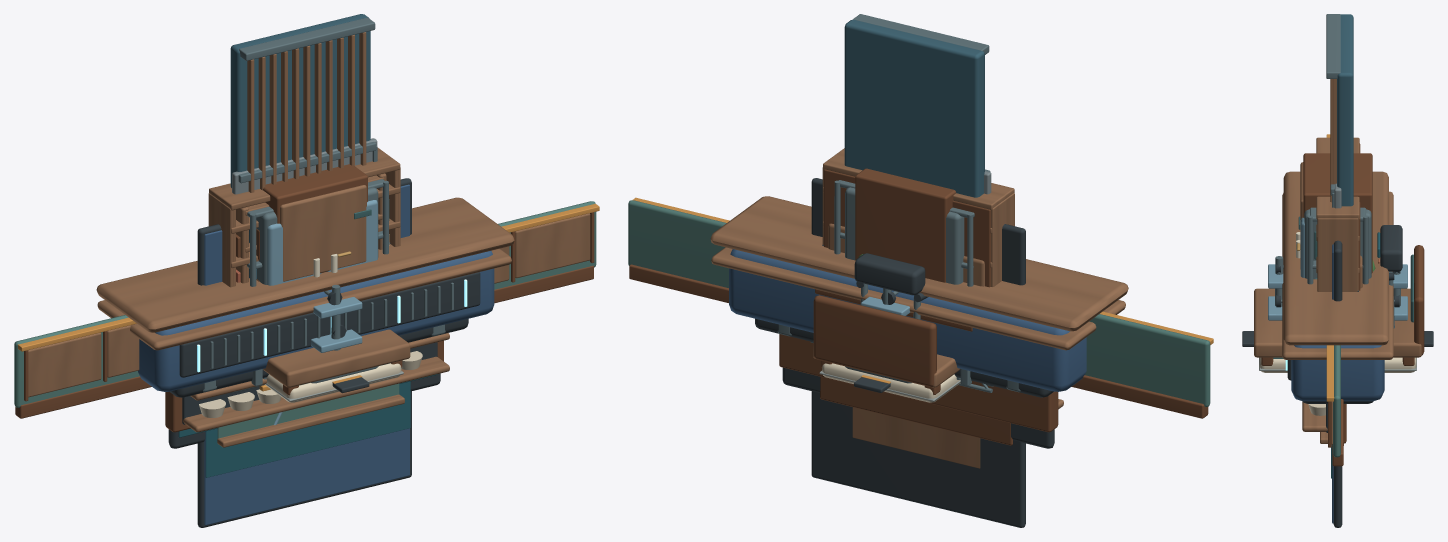
The model's file is office_furniture.glb.
3 renders of one model, left to right at view 1: azimuth 30°, elevation 25°; view 2: azimuth 150°, elevation 25°; view 3: azimuth 270°, elevation 25°, orthographic. The views are drawn at different scales.
Visible parts, largest first — view 1: BroadcastDesk, BroadcastWing, CanteenJoinery, BroadcastPanelCool, Wardrobe, PantryHatch, ConferenceTable, ScriptLibrary, BedFrame, ProjectWall, KitchenFridge, ScenicBackdropBay (+6 smaller); view 2: BroadcastDesk, BroadcastWing, CanteenJoinery, BroadcastPanelCool, BedFrame, Wardrobe, ConferenceTable, ScriptLibrary, PantryHatch, ProjectWall, FittingMirror, TreadmillConsole (+7 smaller); view 3: BroadcastDesk, BroadcastWing, BedFrame, ScriptLibrary, Wardrobe, ConferenceTable, CanteenJoinery, GymWeights, BroadcastPanelCool, TreadmillConsole, SortingCage, KitchenFridge (+4 smaller).
Part boxes in pixels (x1,y1,x2,y2): BroadcastDesk: (96, 197, 514, 397); BroadcastWing: (230, 14, 375, 192); CanteenJoinery: (14, 201, 599, 418); BroadcastPanelCool: (197, 178, 411, 527); Wardrobe: (263, 164, 367, 281); PantryHatch: (165, 333, 449, 432); ConferenceTable: (97, 248, 511, 392); ScriptLibrary: (208, 148, 400, 287); BedFrame: (263, 329, 410, 395); ProjectWall: (217, 383, 404, 447); KitchenFridge: (256, 187, 378, 285); ScenicBackdropBay: (232, 138, 377, 194); BroadcastDesk: (710, 196, 1128, 397); BroadcastWing: (844, 14, 989, 197); CanteenJoinery: (628, 197, 1213, 418); BroadcastPanelCool: (811, 178, 1025, 527); BedFrame: (813, 295, 959, 394); Wardrobe: (855, 168, 956, 282); ConferenceTable: (711, 247, 1125, 392); ScriptLibrary: (822, 148, 1014, 287); PantryHatch: (779, 334, 1063, 432); ProjectWall: (820, 377, 1012, 445); FittingMirror: (852, 407, 980, 468); TreadmillConsole: (854, 253, 928, 319); BroadcastDesk: (1283, 171, 1388, 403); BroadcastWing: (1326, 14, 1353, 206); BedFrame: (1254, 245, 1424, 365); ScriptLibrary: (1316, 137, 1360, 291); Wardrobe: (1296, 153, 1372, 273); ConferenceTable: (1282, 191, 1393, 359); CanteenJoinery: (1326, 134, 1343, 466); GymWeights: (1268, 256, 1407, 320); BroadcastPanelCool: (1331, 240, 1342, 527); TreadmillConsole: (1377, 225, 1402, 328); SortingCage: (1307, 207, 1368, 284); KitchenFridge: (1296, 209, 1371, 279).
Size of the model in its own units: 7.26 by 5.6 by 2.22.
27 materials, 2 textured.
